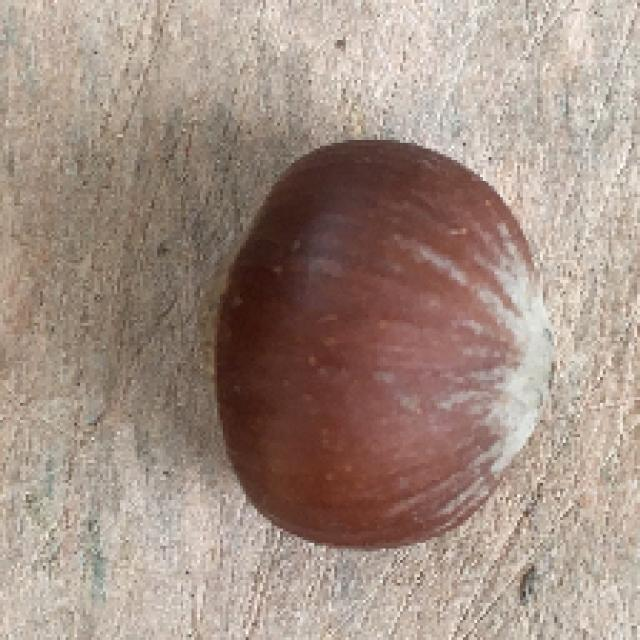qualityHazelnut: (200, 124, 568, 564)
